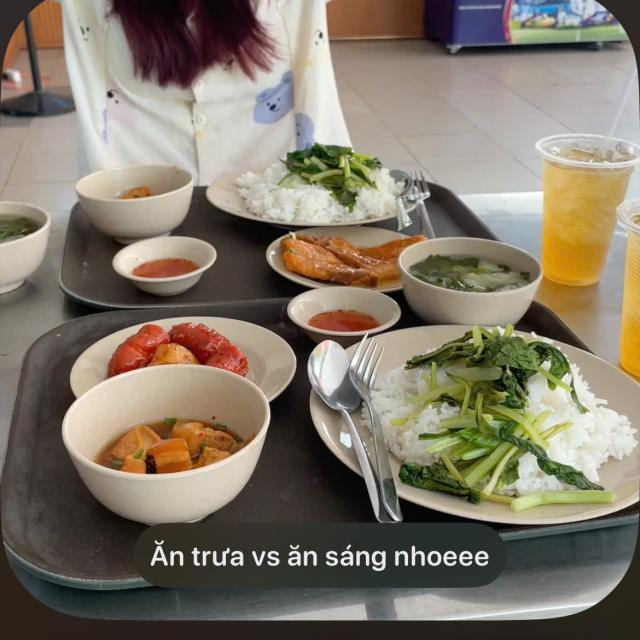canh_cai: (424, 254, 520, 294)
